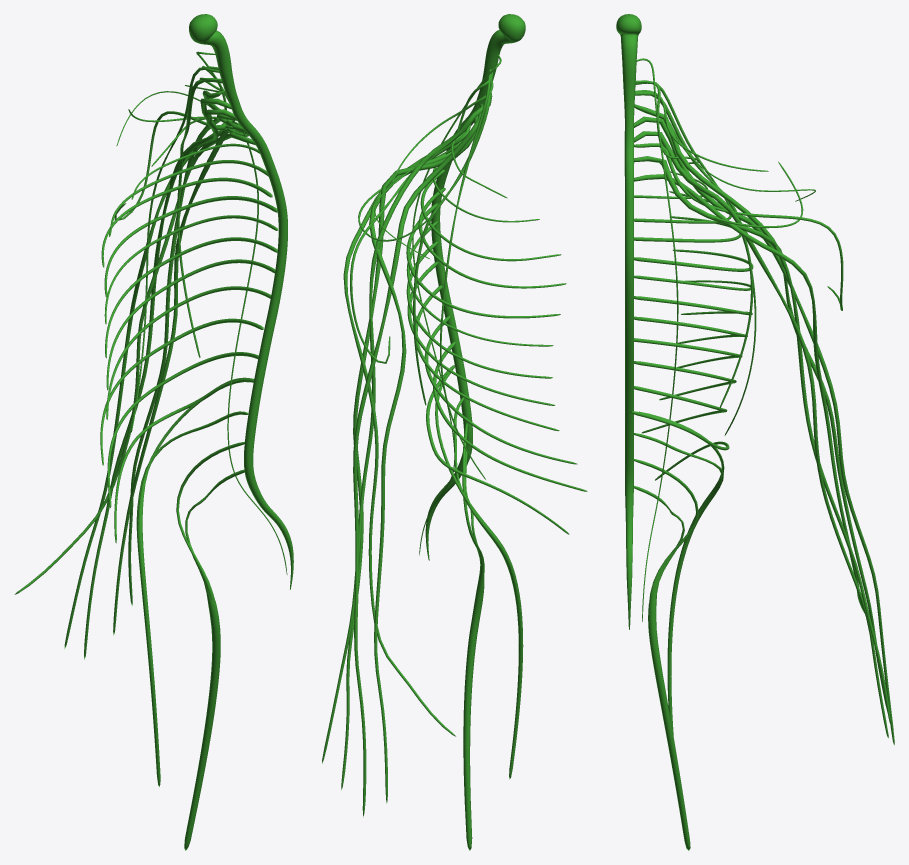
Rendered from Nervous.obj.
3 views of the same model, side by side, from view 1: azimuth 30°, elevation 25°; view 2: azimuth 150°, elevation 25°; view 3: azimuth 270°, elevation 25° (orthographic). The views are drawn at different scales.
Parts seen in each view (by area): view 1: Nervio_base.009_Cylinder.009; view 2: Nervio_base.009_Cylinder.009; view 3: Nervio_base.009_Cylinder.009.
Part boxes in pixels (left/top/right/bottom): Nervio_base.009_Cylinder.009: left=14, top=14, right=293, bottom=850; Nervio_base.009_Cylinder.009: left=322, top=14, right=587, bottom=850; Nervio_base.009_Cylinder.009: left=616, top=14, right=894, bottom=850.
Bounding box in the file's own units: 4.1 × 18.85 × 5.73.
